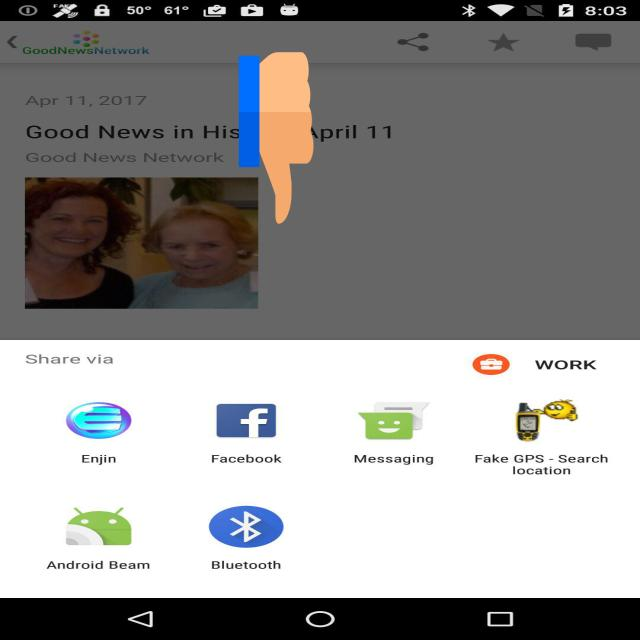obstruction: (239, 48, 313, 228)
